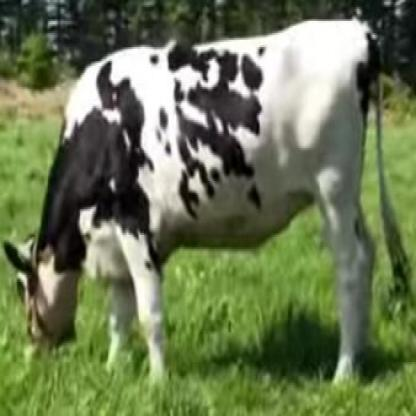cow: (2, 19, 410, 385)
